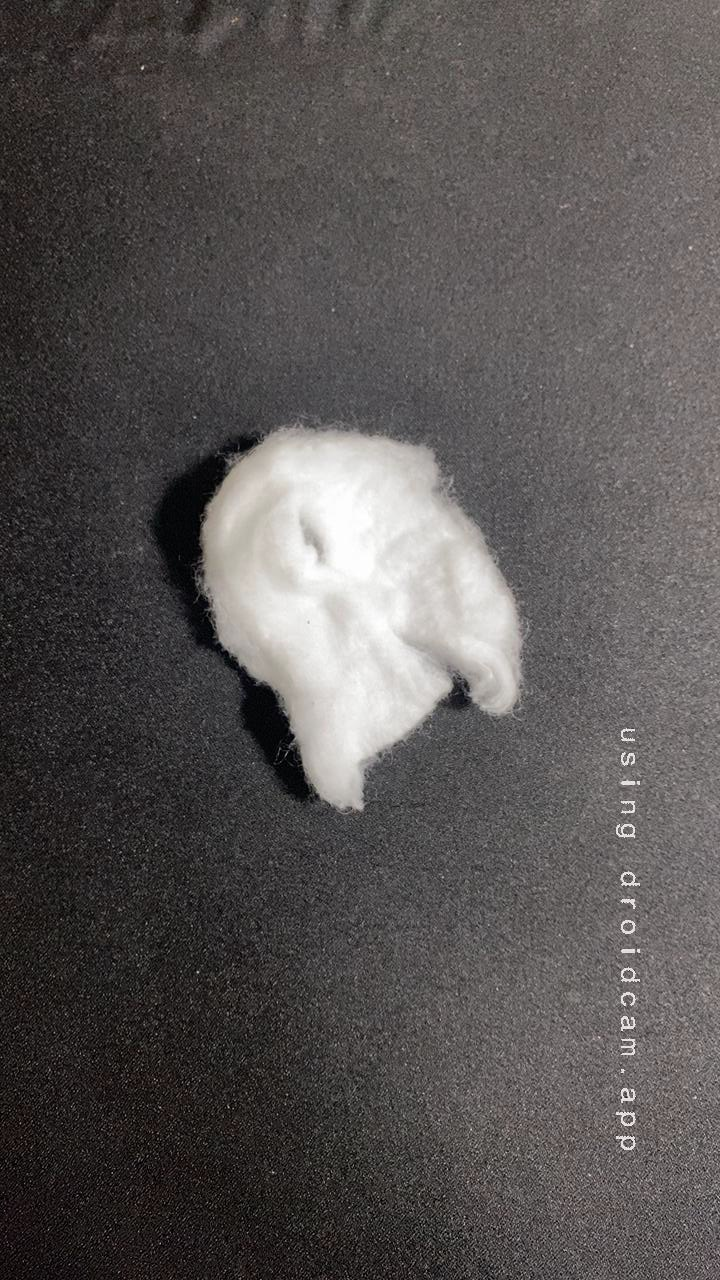cotton: (160, 411, 556, 830)
